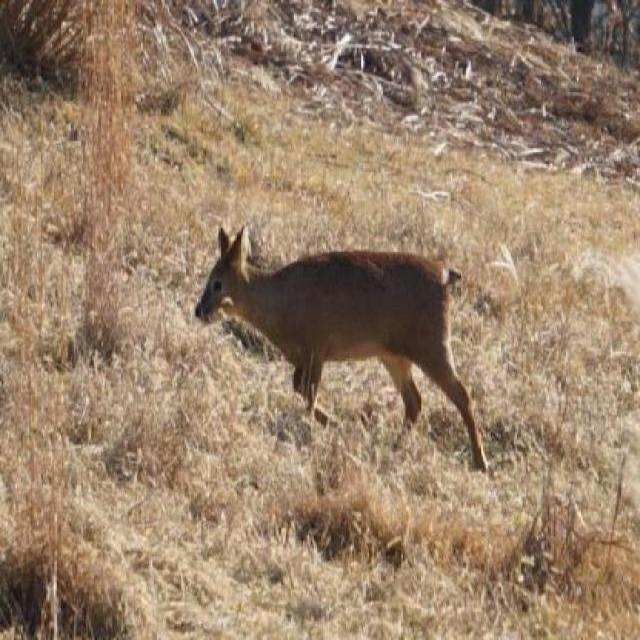deer: (200, 222, 505, 475)
